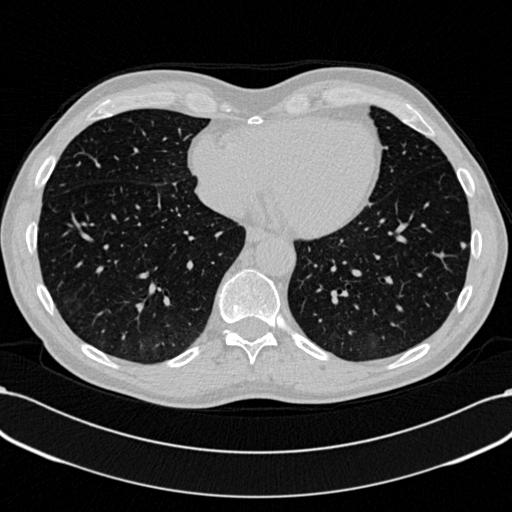nodule: (457, 240, 469, 252)
